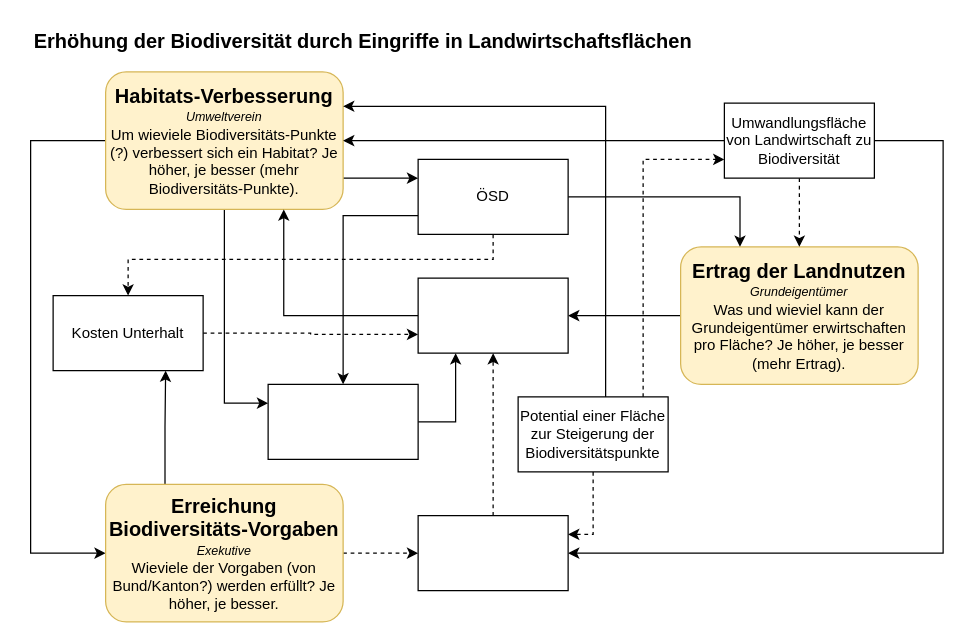
This 976x644 diagram has some shape labels left out. The shapes that lost their labels are listed below. From the top down, each one's box as (x1, y1, x2, y2) in pixels, then its label:
(417, 277, 568, 353): Akzeptanz der Grundeigentümer
(267, 383, 418, 459): Steigerug der Lebensqualität f. Menschen
(417, 514, 568, 591): Aufwand zur Umsetzung von Massnahmen
